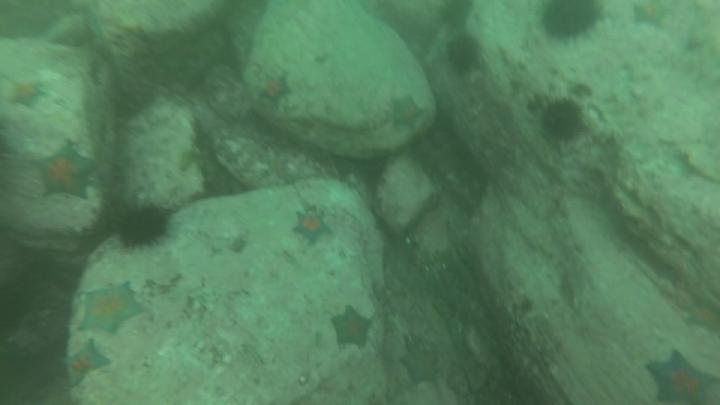echinus: (534, 1, 609, 45), (114, 198, 169, 256), (536, 92, 587, 146), (444, 32, 483, 80), (361, 153, 392, 195), (438, 1, 478, 26)
starfish: (76, 279, 148, 342), (644, 346, 720, 405), (32, 145, 98, 203), (58, 340, 116, 391), (397, 334, 444, 391), (329, 304, 376, 352), (678, 294, 720, 337), (388, 92, 427, 135), (256, 70, 294, 112), (293, 209, 334, 247), (630, 1, 677, 32), (8, 81, 51, 112)
